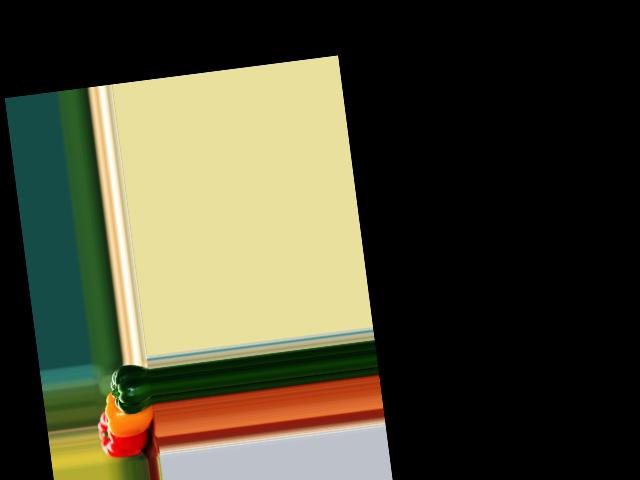bell_pepper: (96, 405, 157, 459)
